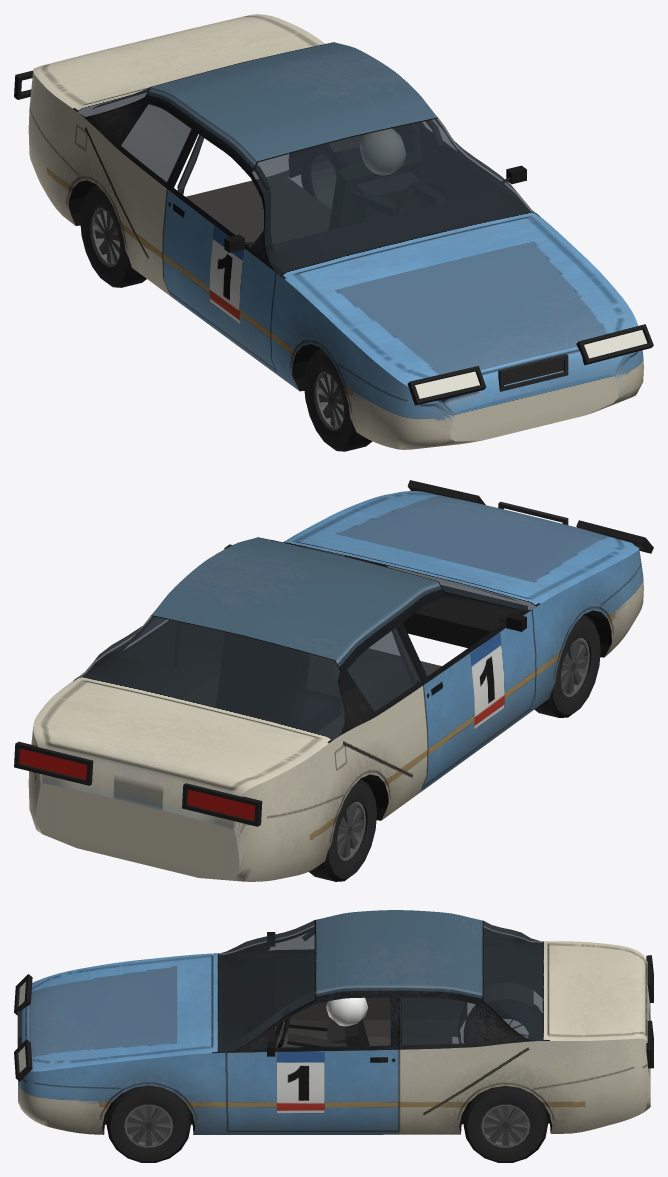
The picture shows the model from 3 angles, top to bottom: view 1: azimuth 30°, elevation 25°; view 2: azimuth 150°, elevation 25°; view 3: azimuth 270°, elevation 25°; orthographic projection. The views are drawn at different scales.
Visible parts, largest first — view 1: body, wheel_fr, wheel_rr, wheel_rl; view 2: body, wheel_rr, wheel_fr; view 3: body, wheel_fl, wheel_rl, wheel_rr.
Part boxes in pixels (box(x1,y1,x2,y2)): body: box(14, 14, 653, 449); wheel_fr: box(304, 348, 372, 451); wheel_rr: box(80, 185, 146, 287); wheel_rl: box(300, 144, 363, 208); body: box(14, 480, 653, 881); wheel_rr: box(309, 779, 376, 881); wheel_fr: box(534, 615, 600, 717); body: box(14, 910, 653, 1134); wheel_fl: box(106, 1085, 190, 1162); wheel_rl: box(463, 1086, 547, 1162); wheel_rr: box(464, 999, 542, 1042).
Bounding box in the file's own units: 1.95 × 1.34 × 4.55.
Materials: 2 (1 with a texture image).
